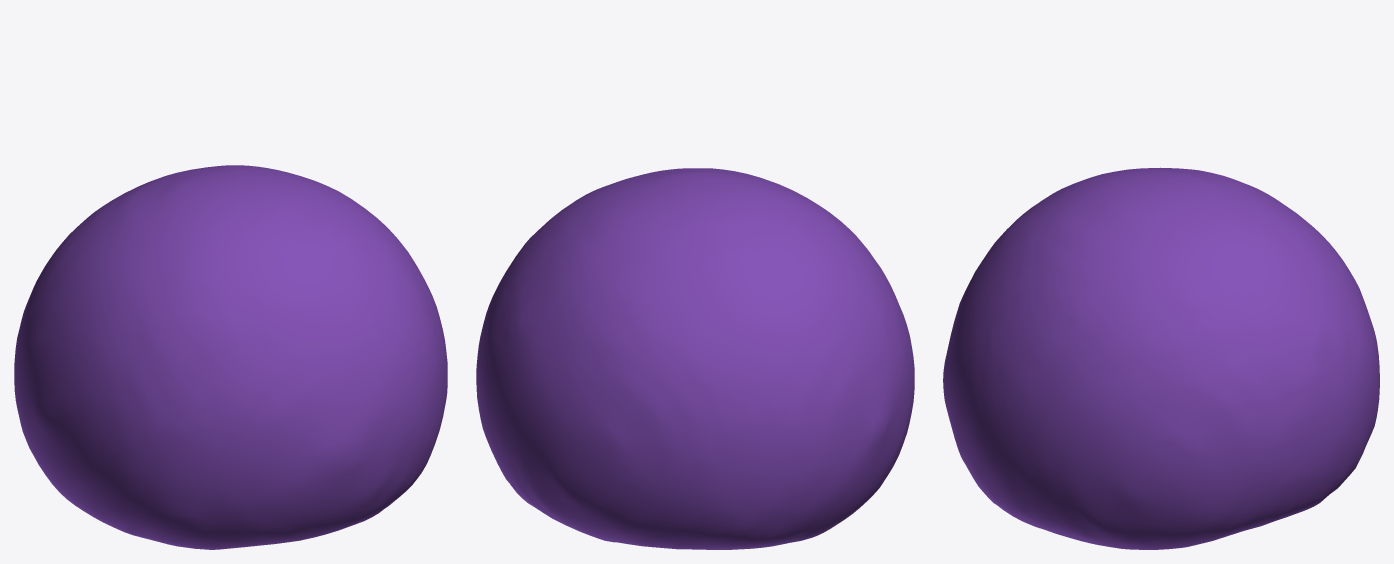
Rendered from slime_0021.dae.
3 renders of one model, left to right at view 1: azimuth 30°, elevation 25°; view 2: azimuth 150°, elevation 25°; view 3: azimuth 270°, elevation 25°, orthographic.
Parts seen in each view (by area): view 1: Slime; view 2: Slime; view 3: Slime.
Part boxes in pixels (<box>): Slime: <box>14,165,447,549</box>; Slime: <box>476,168,914,549</box>; Slime: <box>943,167,1379,549</box>.
Size of the model in its own units: 2.05 by 2.48 by 2.06.
